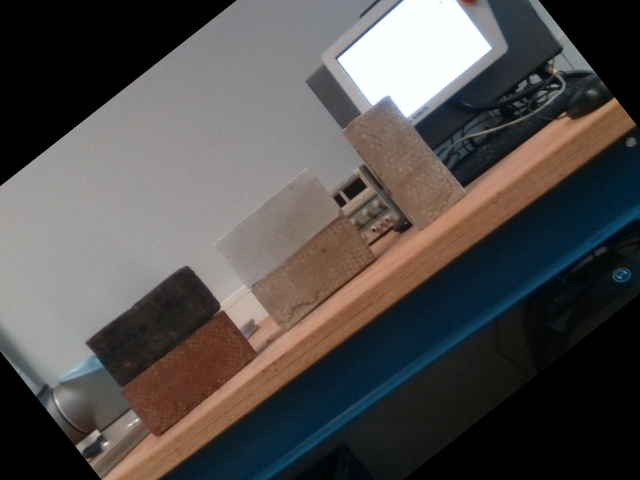brick: (343, 96, 465, 228), (88, 264, 219, 384), (122, 314, 253, 434), (211, 166, 342, 286), (252, 215, 376, 329)
